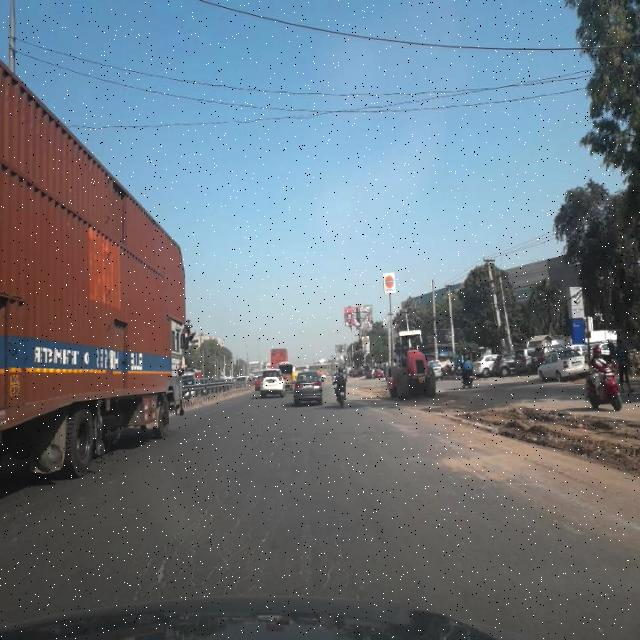D20: (126, 420, 390, 594)
